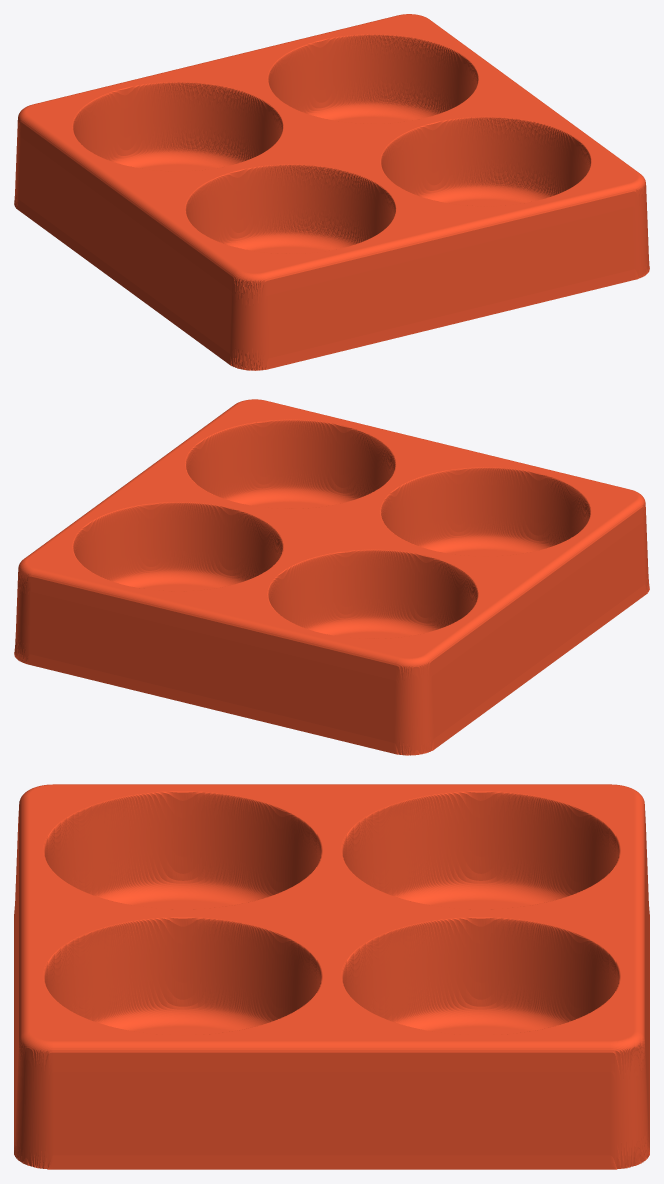
The model's file is mold.glb.
3 views of the same model, one above another, from view 1: azimuth 30°, elevation 25°; view 2: azimuth 150°, elevation 25°; view 3: azimuth 270°, elevation 25° (orthographic). The views are drawn at different scales.
Parts seen in each view (by area): view 1: geometry_0; view 2: geometry_0; view 3: geometry_0.
Boxes of the visible parts, x1,y1,x2,y2 form: geometry_0: [14, 14, 649, 370]; geometry_0: [14, 399, 649, 755]; geometry_0: [14, 784, 649, 1169].
Size of the model in its own units: 0.1466 by 0.031 by 0.1466.
